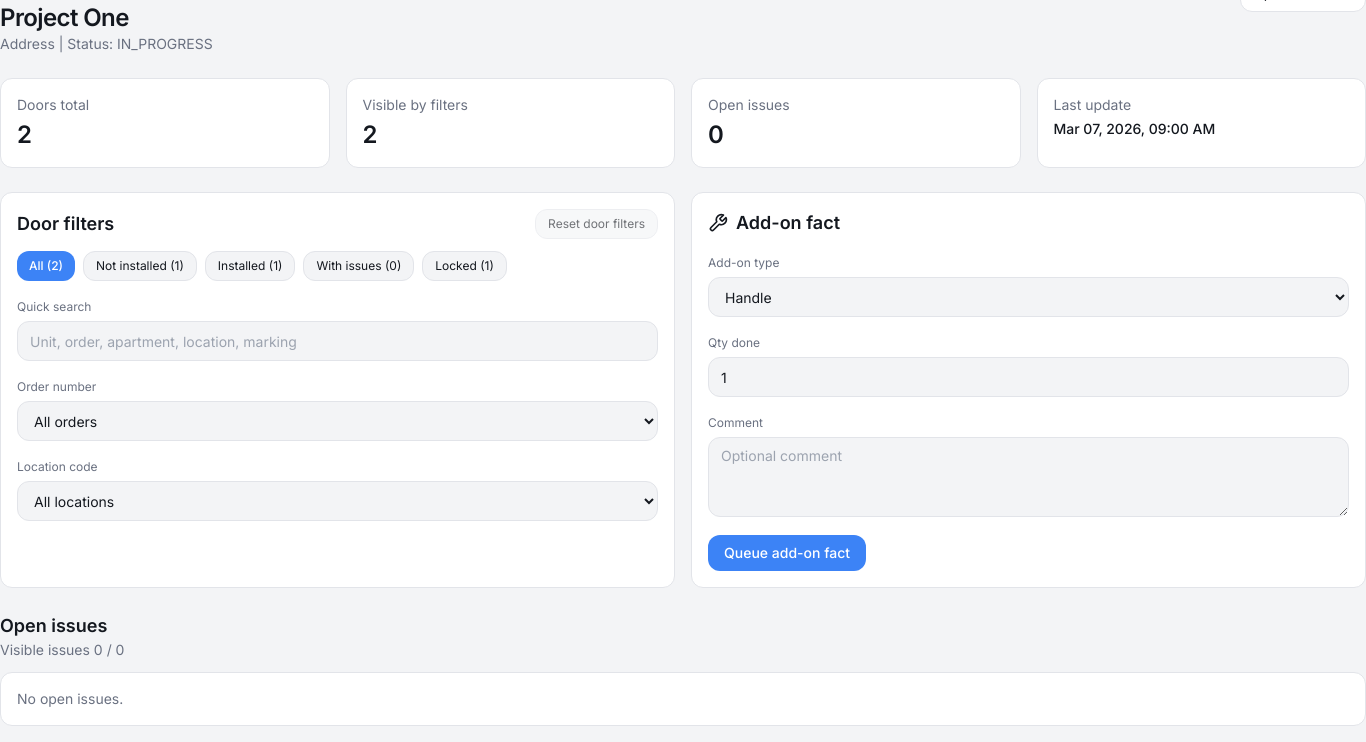
Test case: InstallerProjectPage › filters doors by quick search and resets filters
This screenshot has width=1366, height=742.
In the field with placeholder "Unit, order, apartment, location, marking": (338, 341) [17,321,658,361], type "mark-2"
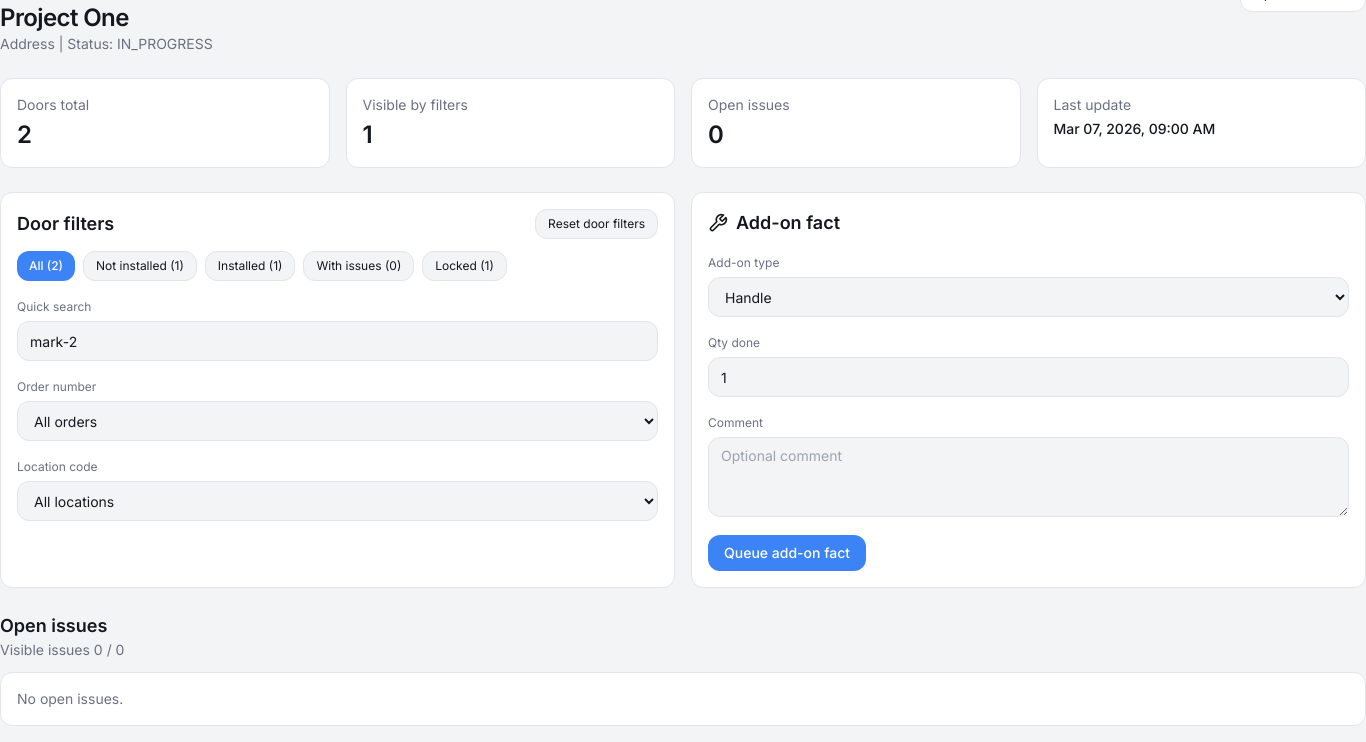
Click the button "Reset door filters": click(597, 224) [535,209,658,239]
(page scrolled)
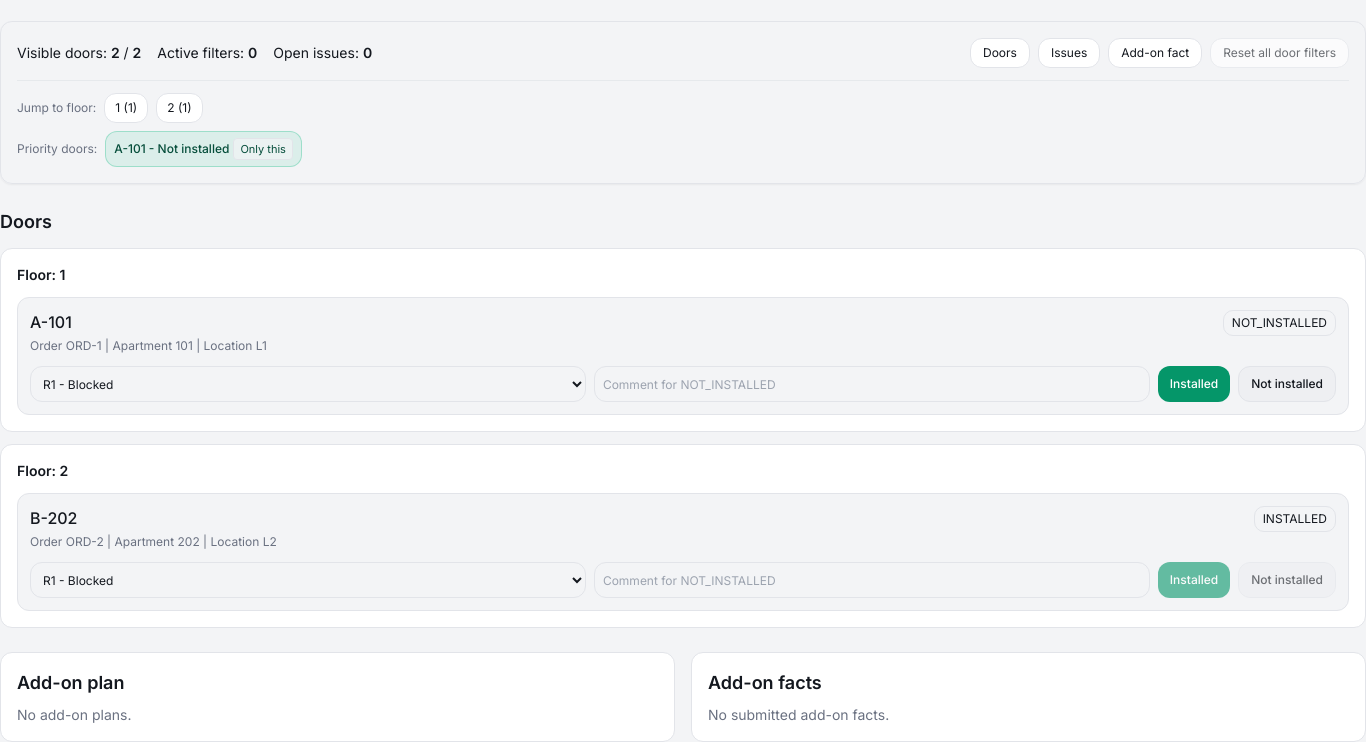
expect the text "B-202" is shown: met, box [30,508,78,528]
expect the text "A-101" is shown: met, box [30,312,72,332]
